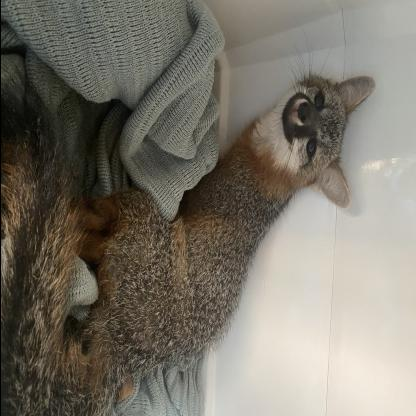zorro: (0, 64, 380, 416)
